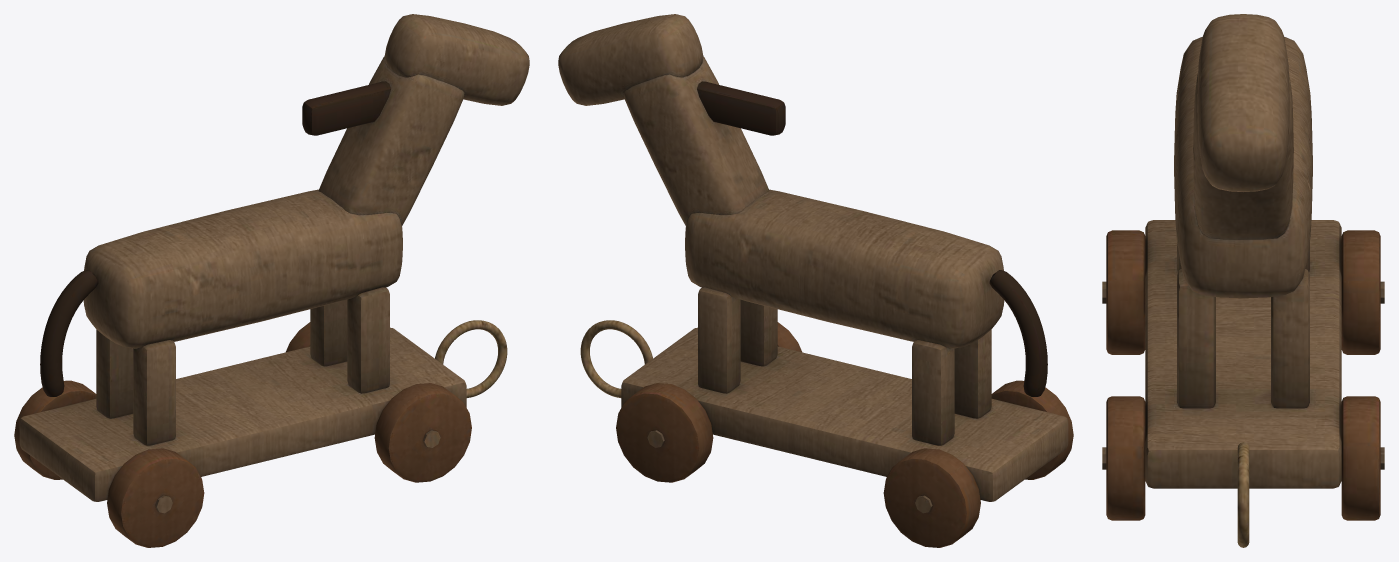
File: toy_horse.glb
The picture shows the model from 3 angles, left to right: view 1: azimuth 30°, elevation 25°; view 2: azimuth 150°, elevation 25°; view 3: azimuth 270°, elevation 25°; orthographic projection. The views are drawn at different scales.
Parts seen in each view (by area): view 1: toy_horse; view 2: toy_horse; view 3: toy_horse.
Part boxes in pixels (x1=…): toy_horse: x1=14, y1=14, x2=529, y2=547; toy_horse: x1=558, y1=14, x2=1073, y2=547; toy_horse: x1=1102, y1=14, x2=1384, y2=547.
Bounding box in the file's own units: 0.1796 × 0.1477 × 0.072.
1 material, 1 textured.
